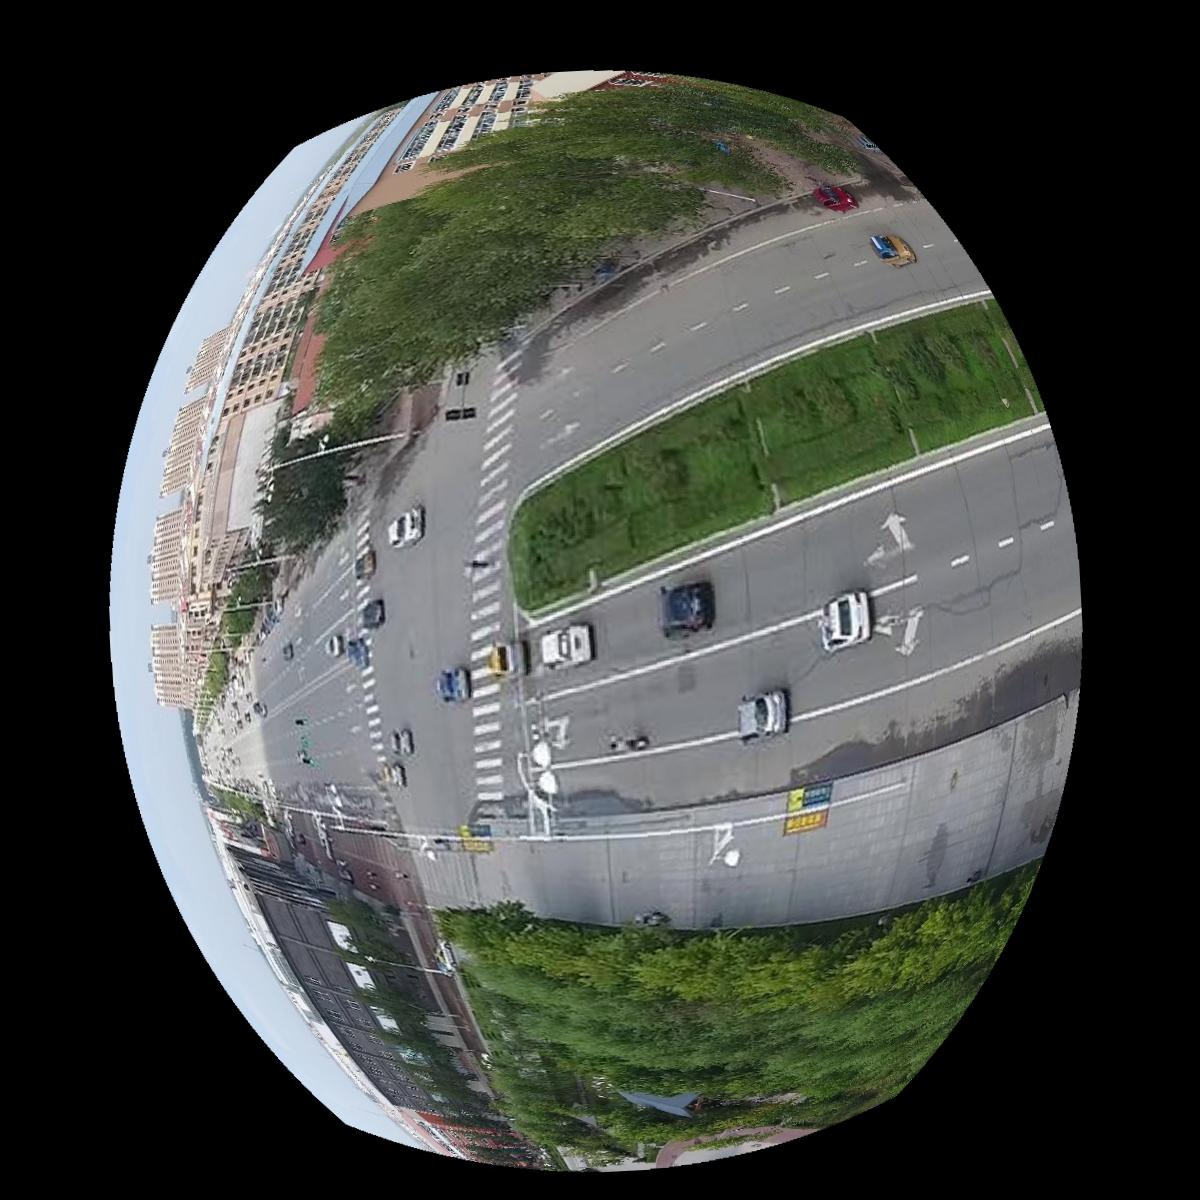building: (208, 810, 537, 1165), (148, 170, 343, 710), (303, 74, 535, 267)
cars: (820, 590, 873, 652), (658, 580, 713, 637), (737, 689, 789, 743), (541, 623, 593, 668), (486, 640, 529, 678), (871, 232, 918, 266), (387, 504, 423, 547), (813, 181, 859, 211), (433, 667, 470, 702), (378, 759, 405, 788), (345, 637, 369, 668), (354, 546, 376, 579), (359, 600, 384, 629), (389, 727, 413, 755)
trees: (318, 78, 862, 423), (436, 864, 1038, 1166), (255, 427, 363, 552)
